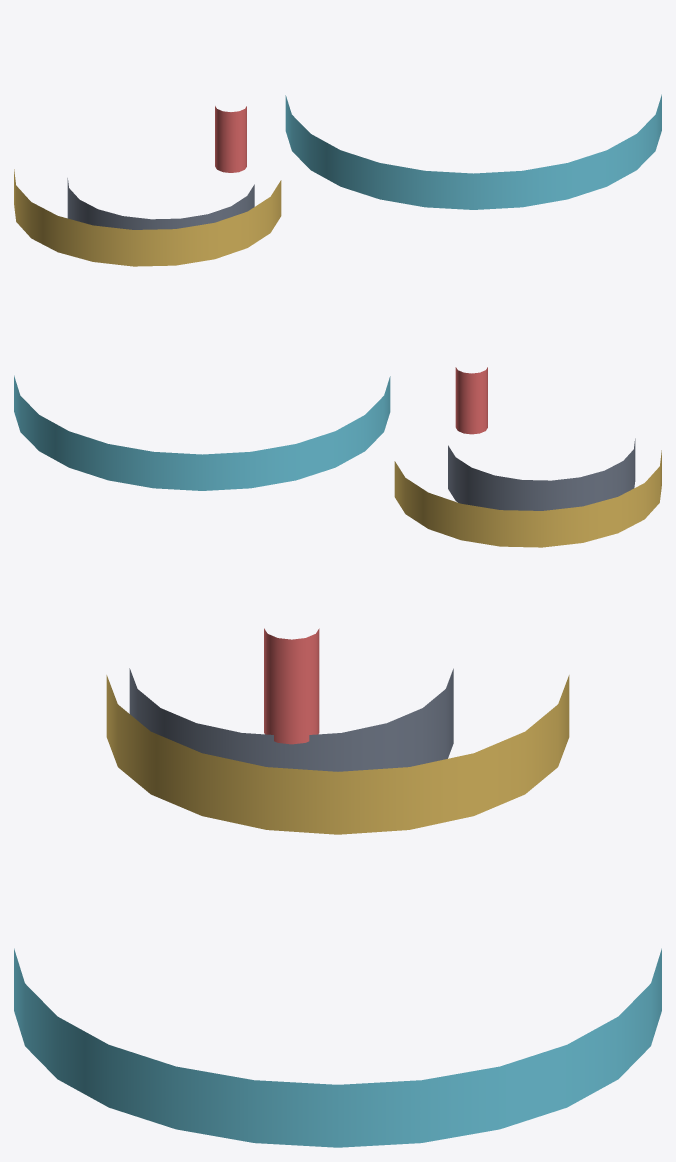
File: geneva_mechanism.glb
3 views of the same model, one above another, from view 1: azimuth 30°, elevation 25°; view 2: azimuth 150°, elevation 25°; view 3: azimuth 270°, elevation 25° (orthographic). The views are drawn at different scales.
Parts seen in each view (by area): view 1: GenevaWheel_4Slot, DriverWheel, LockingRing, DrivePin; view 2: GenevaWheel_4Slot, DriverWheel, LockingRing, DrivePin; view 3: GenevaWheel_4Slot, DriverWheel, LockingRing, DrivePin.
Boxes of the visible parts, x1=… form: GenevaWheel_4Slot: x1=285, y1=94, x2=661, y2=209; DriverWheel: x1=14, y1=169, x2=281, y2=266; LockingRing: x1=67, y1=178, x2=254, y2=229; DrivePin: x1=215, y1=106, x2=246, y2=172; GenevaWheel_4Slot: x1=14, y1=375, x2=390, y2=490; DriverWheel: x1=394, y1=450, x2=661, y2=547; LockingRing: x1=448, y1=438, x2=635, y2=510; DrivePin: x1=455, y1=367, x2=487, y2=434; GenevaWheel_4Slot: x1=14, y1=948, x2=661, y2=1147; DriverWheel: x1=106, y1=675, x2=569, y2=834; LockingRing: x1=129, y1=668, x2=453, y2=771; DrivePin: x1=264, y1=628, x2=319, y2=744.
Size of the model in its own units: 2.6 by 0.415 by 1.4.
